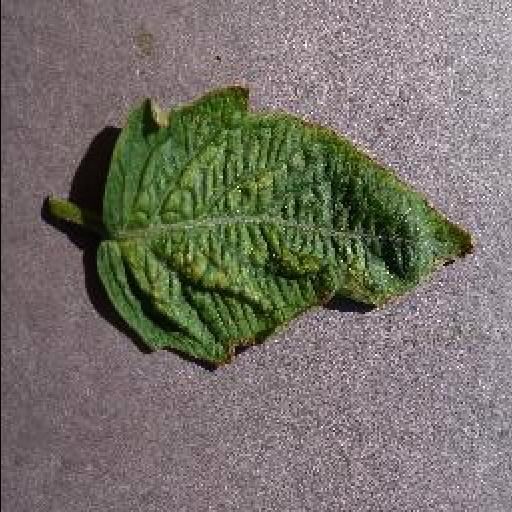disease_tomato: (92, 84, 478, 364)
